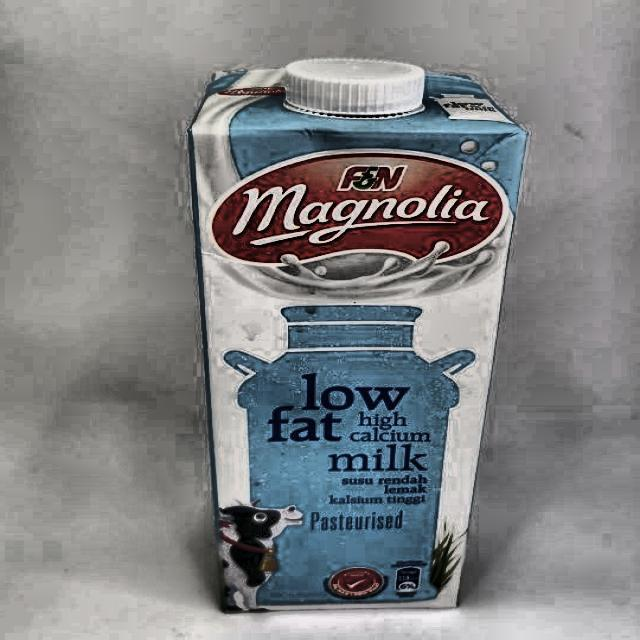cardboard: (186, 59, 529, 612)
